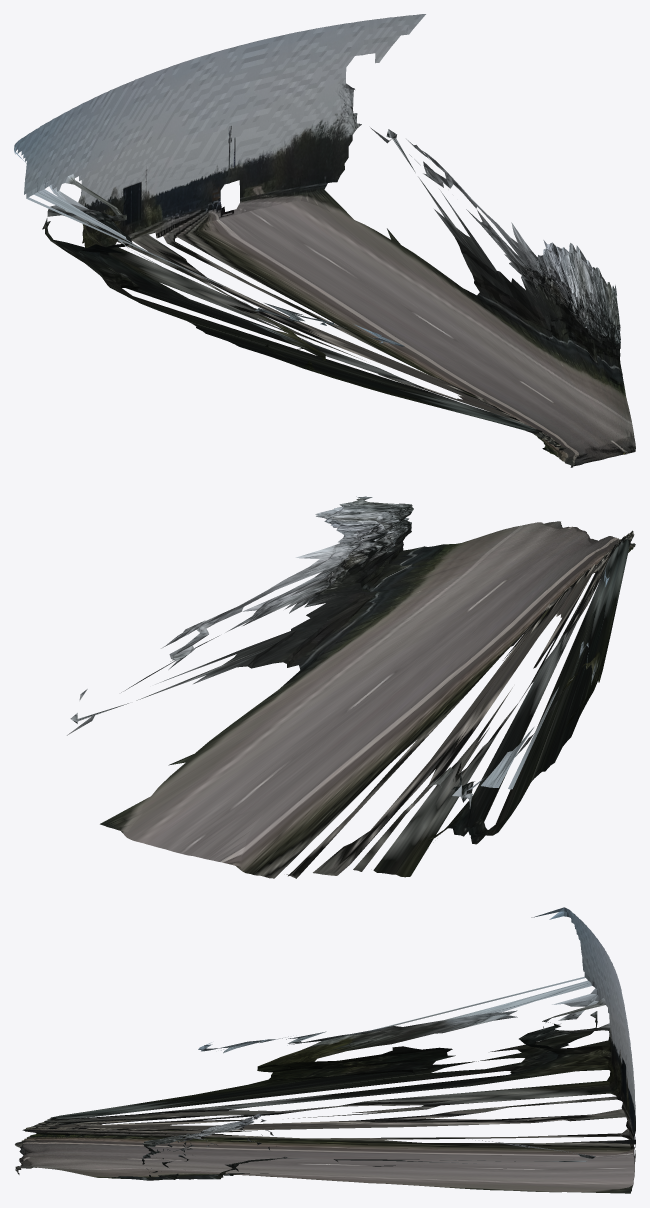
3 views of the same model, one above another, from view 1: azimuth 30°, elevation 25°; view 2: azimuth 150°, elevation 25°; view 3: azimuth 270°, elevation 25° (orthographic). The views are drawn at different scales.
Parts seen in each view (by area): view 1: defaultobject; view 2: defaultobject; view 3: defaultobject.
Part boxes in pixels (x1,y1,x2,y2): defaultobject: (14, 14, 635, 467); defaultobject: (67, 496, 635, 878); defaultobject: (15, 907, 635, 1193).
Size of the model in its own units: 31.66 by 12.47 by 44.61.
Materials: 1 (1 with a texture image).
